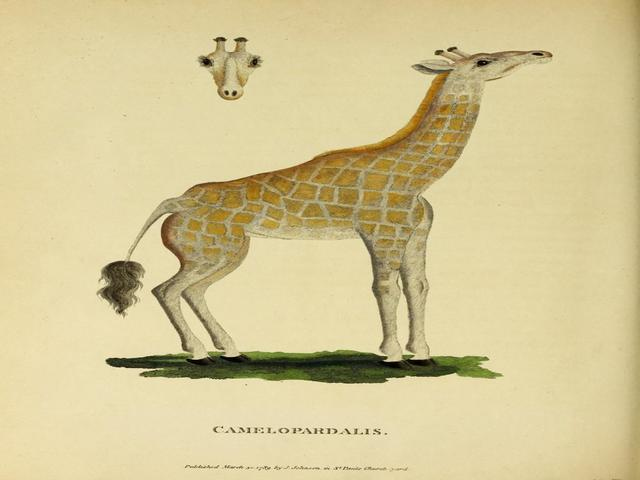giraffe: (82, 29, 576, 407)
